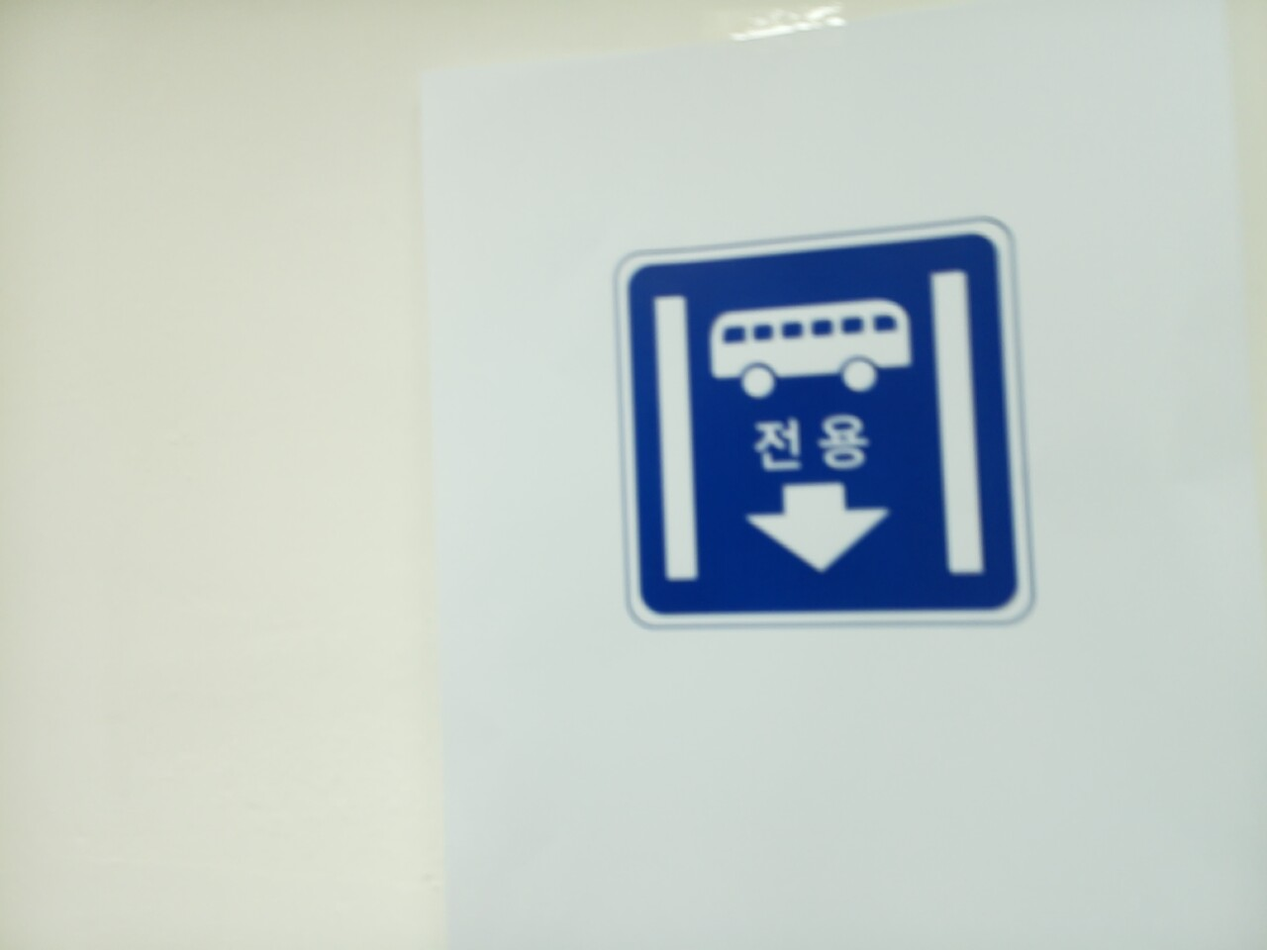bus_only_lane: (616, 223, 1029, 625)
